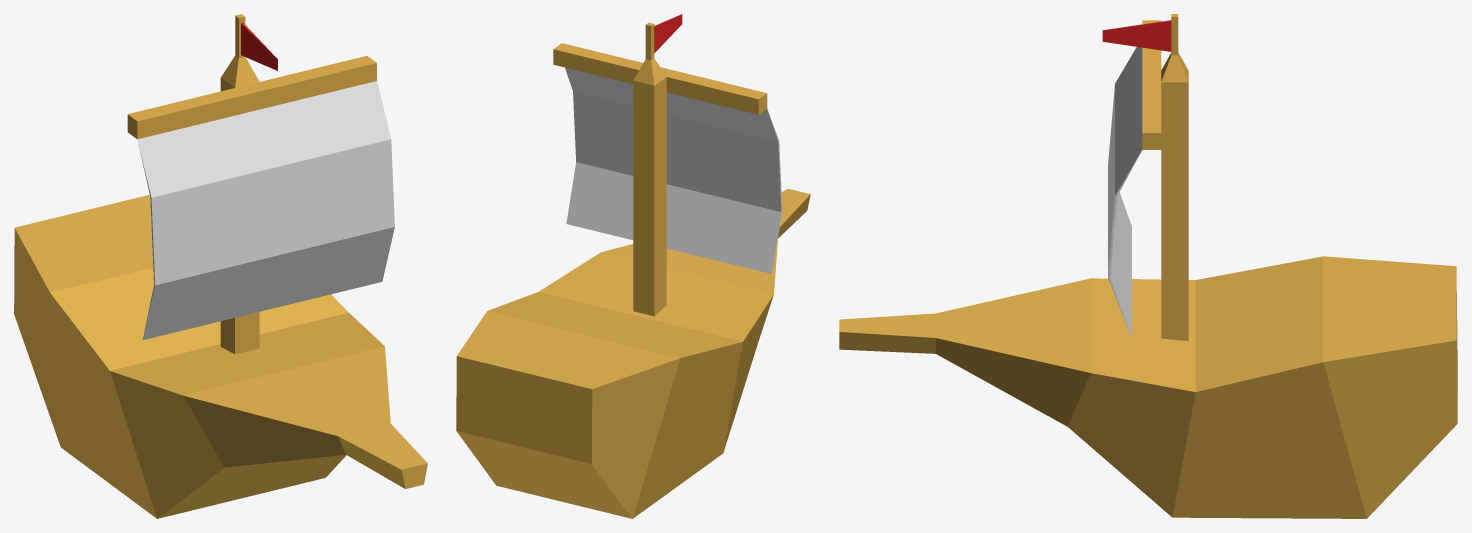
File: Ship.fbx
3 views of the same model, side by side, from view 1: azimuth 30°, elevation 25°; view 2: azimuth 150°, elevation 25°; view 3: azimuth 270°, elevation 25° (orthographic). The views are drawn at different scales.
Parts seen in each view (by area): view 1: Boat, Sail, Flag; view 2: Boat, Sail, Flag; view 3: Boat, Sail, Flag.
Part boxes in pixels (<box>): Boat: <box>14,194,427,518</box>; Sail: <box>127,14,394,354</box>; Flag: <box>241,22,277,70</box>; Boat: <box>456,188,810,518</box>; Sail: <box>553,22,782,316</box>; Flag: <box>654,14,682,53</box>; Boat: <box>839,256,1457,518</box>; Sail: <box>1108,14,1188,341</box>; Flag: <box>1102,20,1171,51</box>.
Size of the model in its own units: 256 by 496 by 595.
